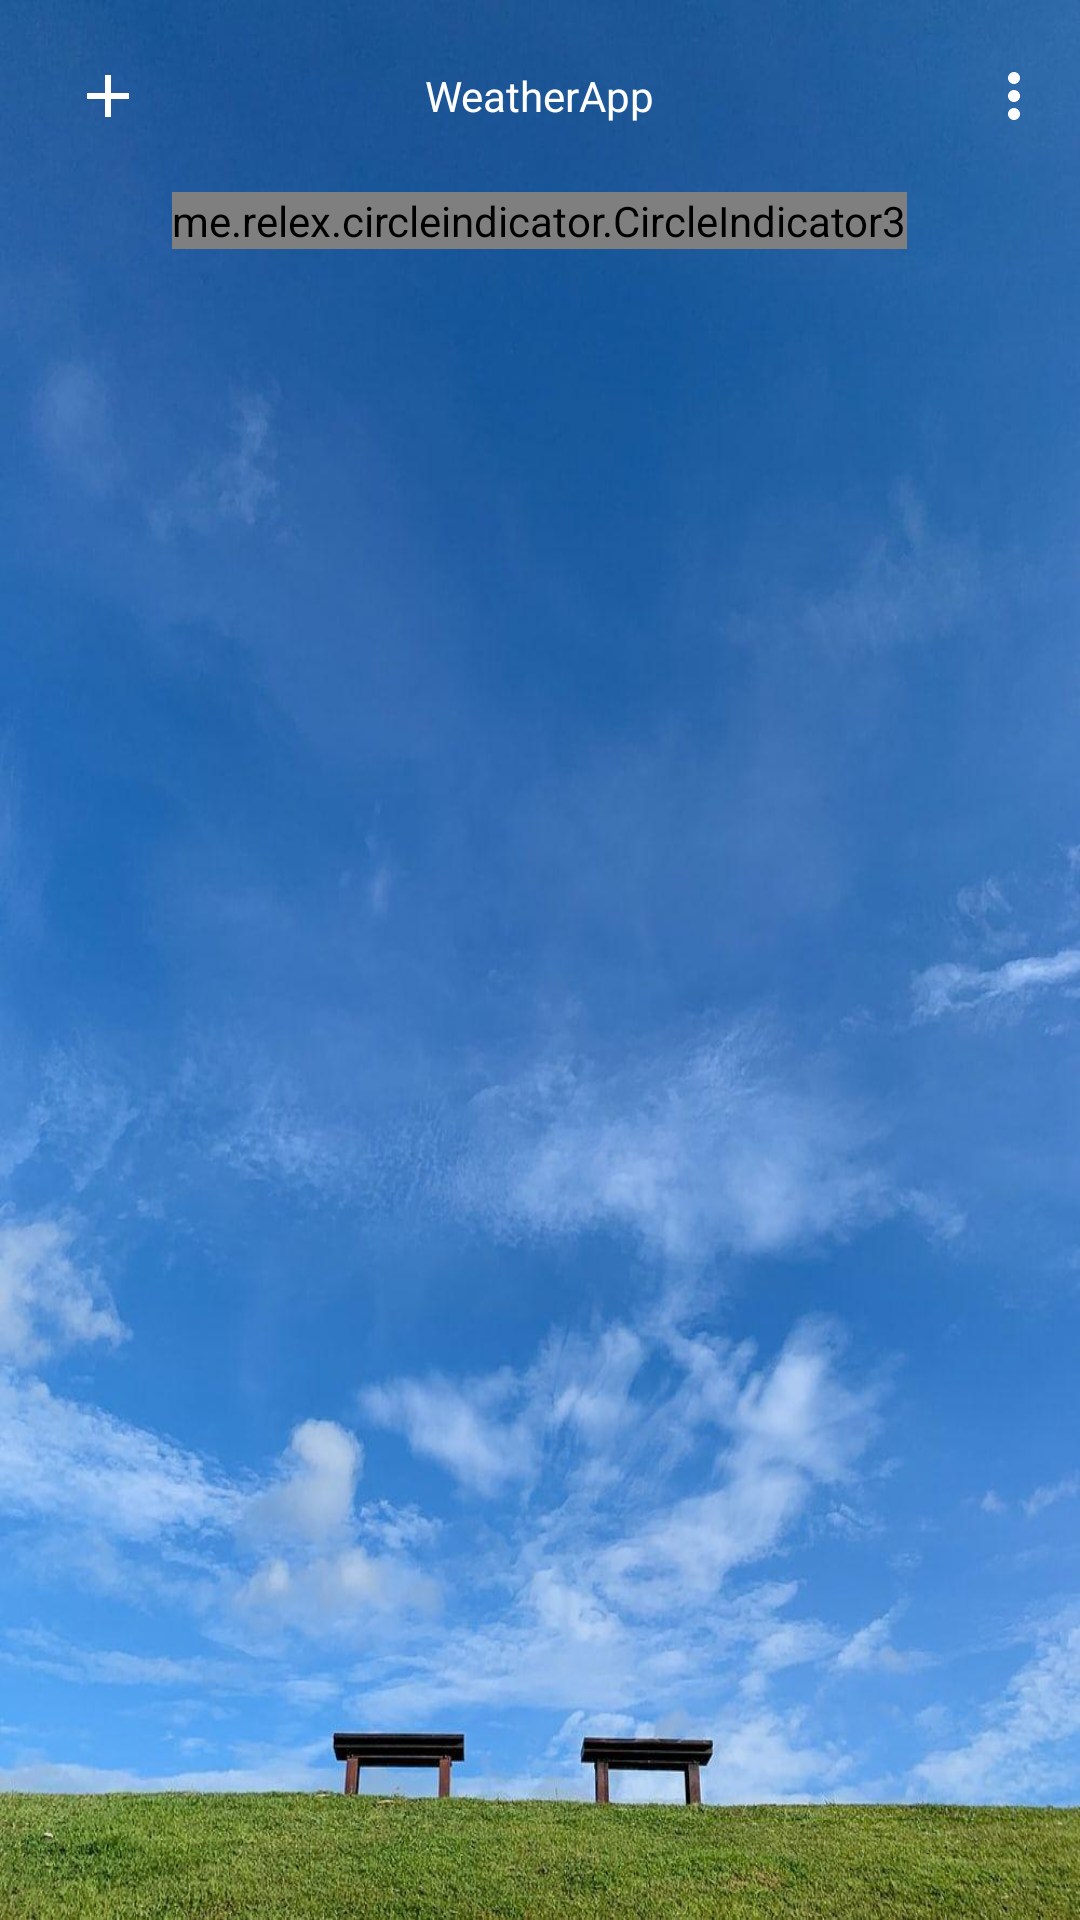

Named icons in this screenshot (1080px×1920px) and their centers, (x,y):
add: (108,96)
